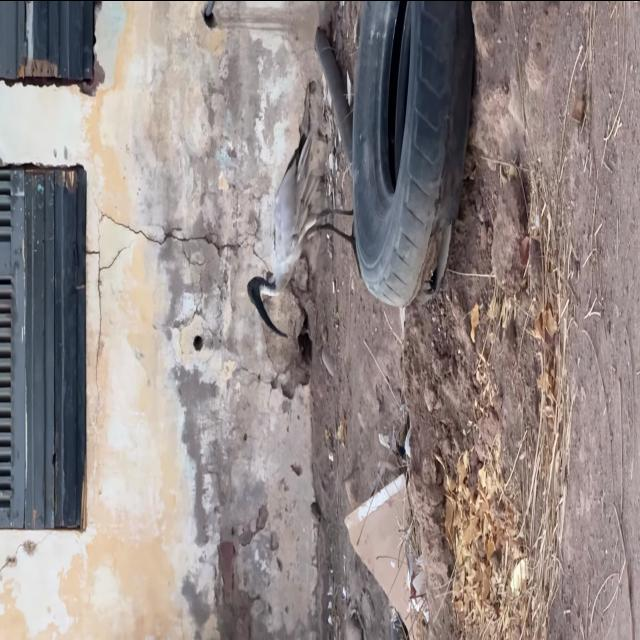Birds-Ibis: (243, 116, 367, 340)
